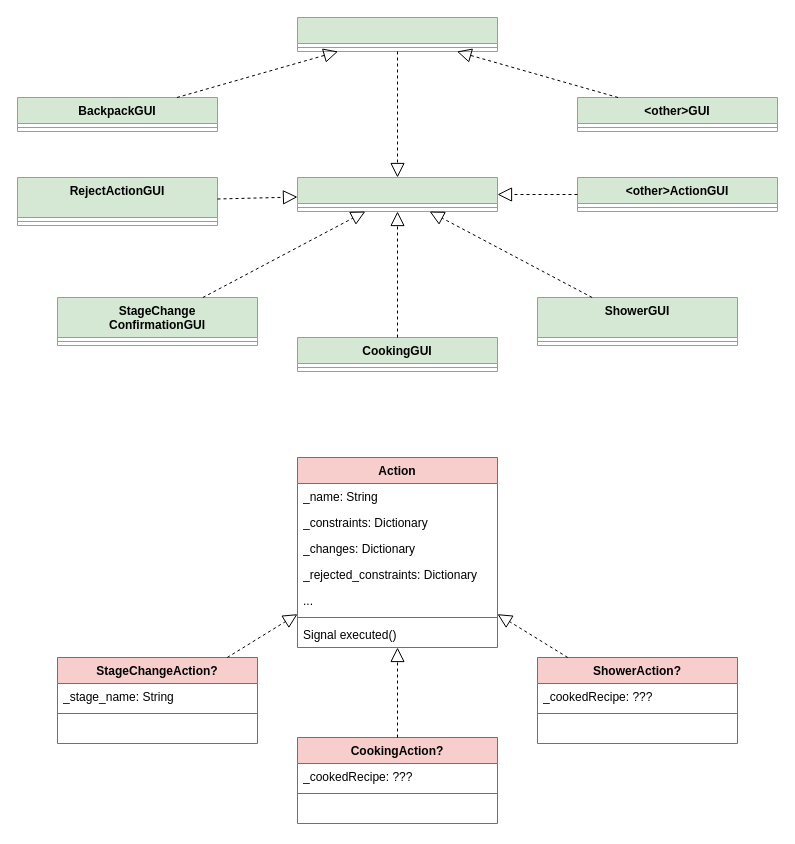
Image size: 795x844. Some labels were removed from this diagram. Each missing label, with the centre of its shape:
ActionGUI: pixel 397 194
GUI: pixel 397 34
